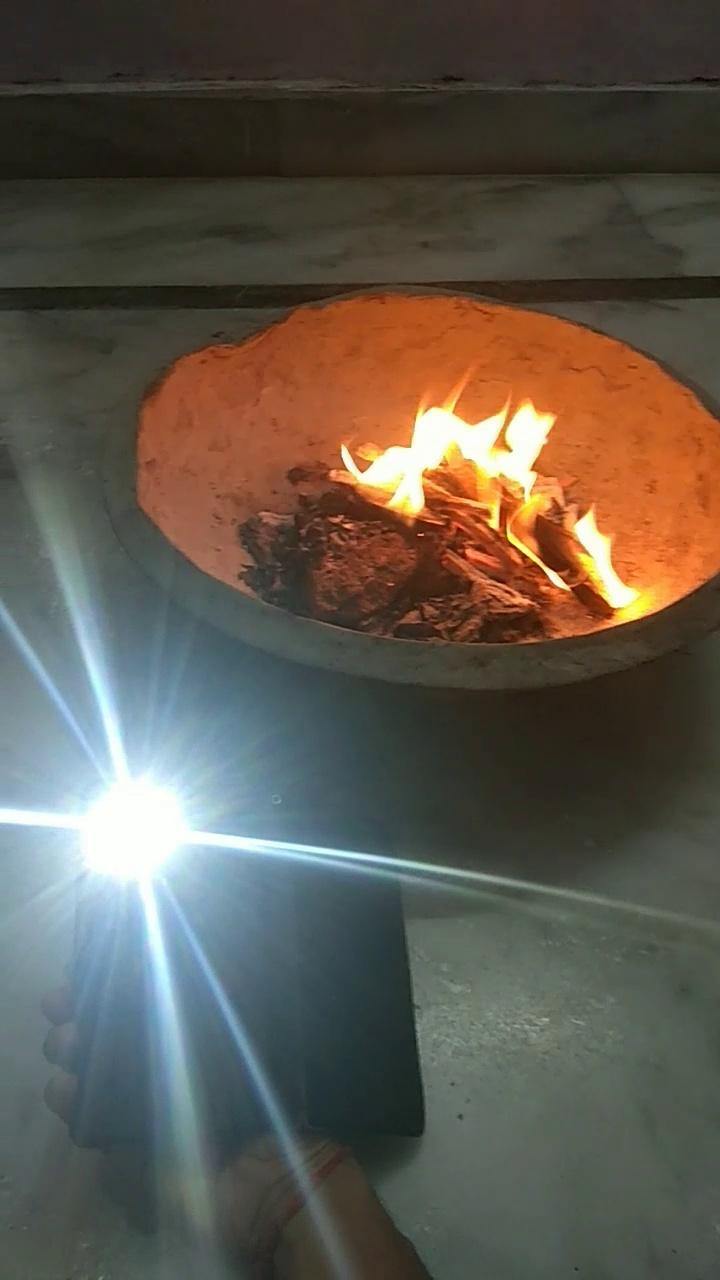fire: (320, 365, 632, 592)
